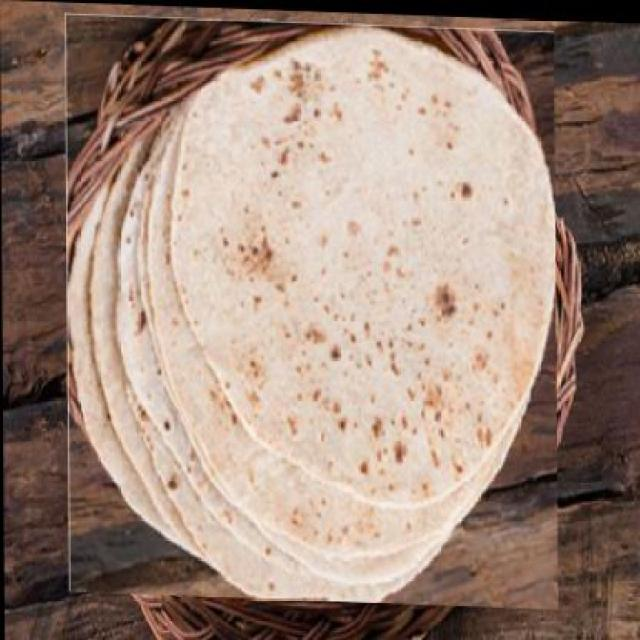chapati: (64, 13, 558, 607)
